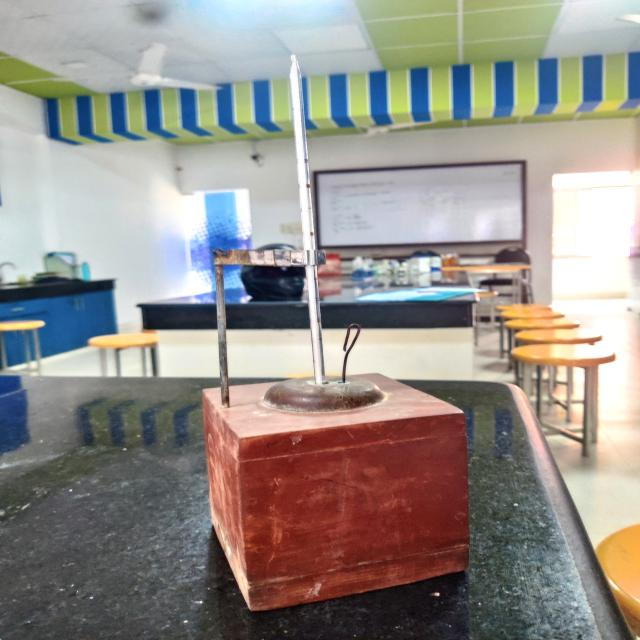Calorimeter: (143, 36, 501, 616)
